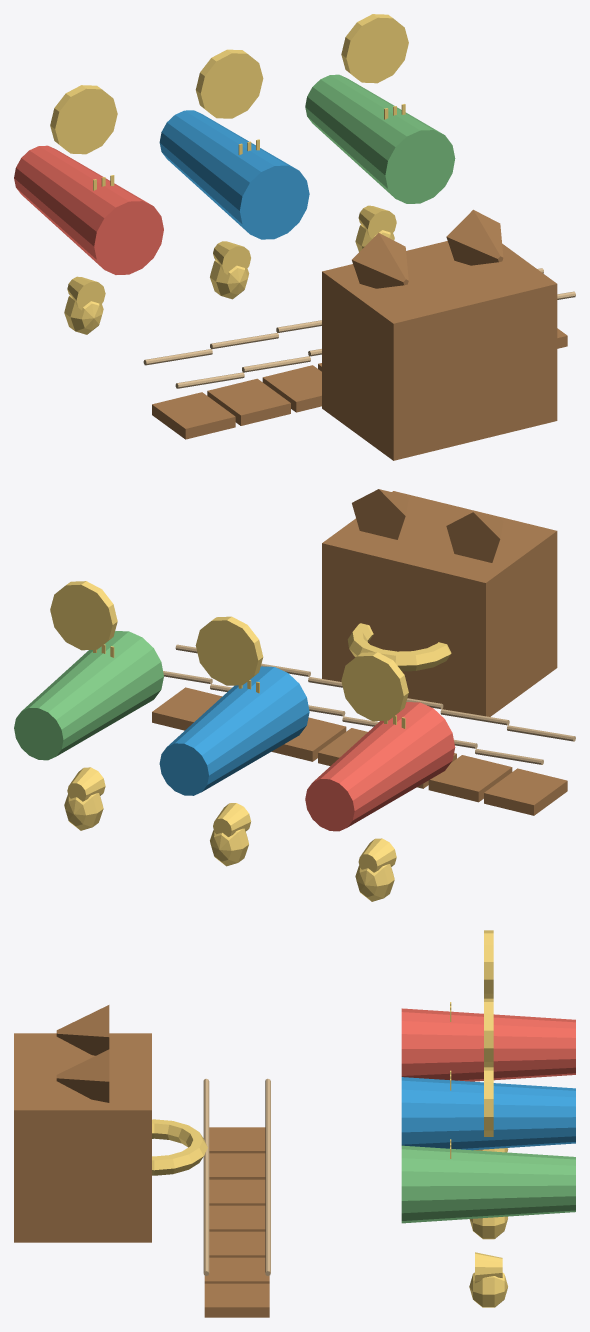
File: churus_parque_r3.glb
3 renders of one model, top to bottom at view 1: azimuth 30°, elevation 25°; view 2: azimuth 150°, elevation 25°; view 3: azimuth 270°, elevation 25°, orthographic. The views are drawn at different scales.
Parts seen in each view (by area): view 1: madera, crema, tubo Churu.001, tubo Churu, tubo Churu.002, sisal; view 2: madera, crema, tubo Churu.001, tubo Churu.002, tubo Churu, sisal; view 3: madera, tubo Churu.002, tubo Churu.001, tubo Churu, crema, sisal.
Boxes of the visible parts, box(x1,y1,x2,y2) form: madera: box(152, 209, 567, 460); crema: box(50, 14, 408, 334); tubo Churu.001: box(159, 110, 309, 239); tubo Churu: box(14, 145, 163, 274); tubo Churu.002: box(305, 74, 455, 203); sisal: box(143, 268, 575, 388); madera: box(152, 489, 567, 815); crema: box(50, 581, 451, 901); tubo Churu.001: box(159, 666, 309, 795); tubo Churu.002: box(14, 631, 163, 760); tubo Churu: box(305, 702, 455, 831); sisal: box(163, 644, 575, 764); madera: box(14, 1005, 269, 1317); tubo Churu.002: box(401, 1145, 575, 1223); tubo Churu.001: box(401, 1077, 575, 1150); tubo Churu: box(401, 1008, 575, 1081); crema: box(152, 930, 508, 1307); sisal: box(203, 1078, 270, 1275).
Size of the model in its own units: 5.47 by 3.23 by 6.92.
